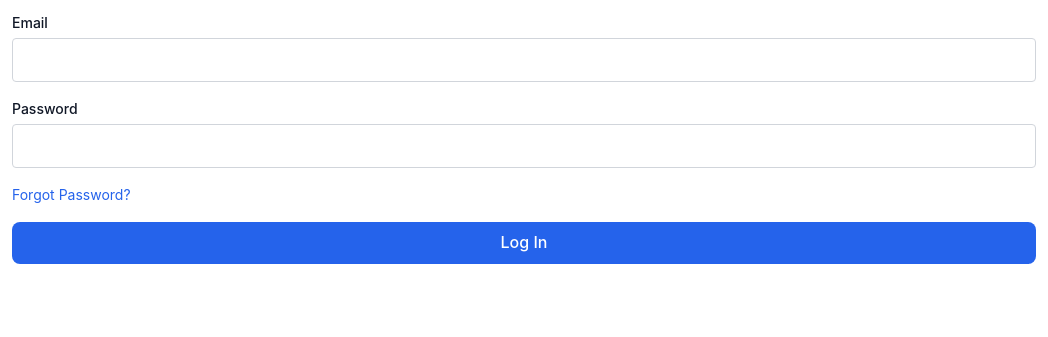
Scenario: <LoginForm /> › when the credentials are rejected with a 401 › should show one generic message for an unknown email
In the field labelled "Email": (524, 60) [12,38,1036,82], type "nobody@example.com"
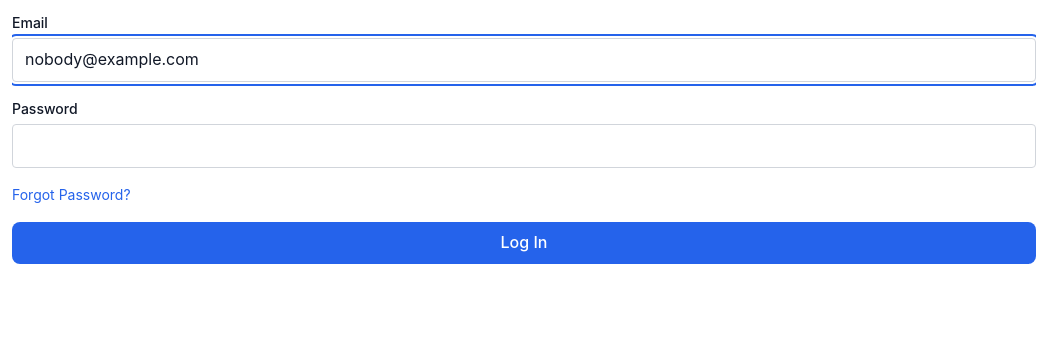
In the password field labelled "Password": (524, 146) [12,124,1036,168], type "CorrectHorse1!"
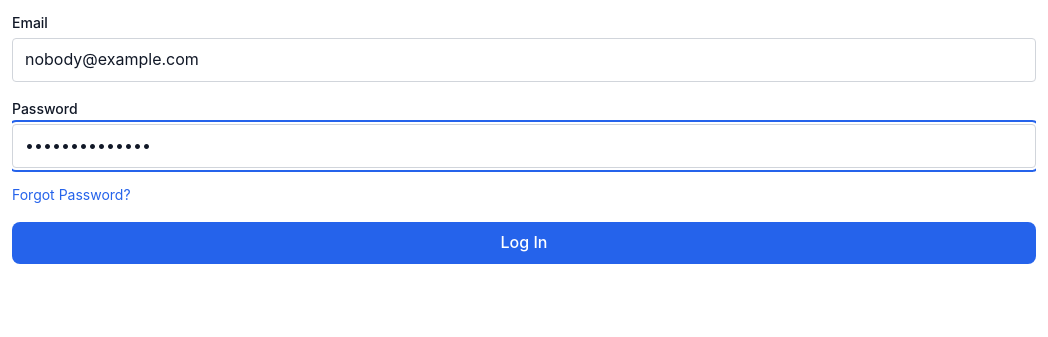
Click the button "Log In": click(524, 243) [12,222,1036,264]
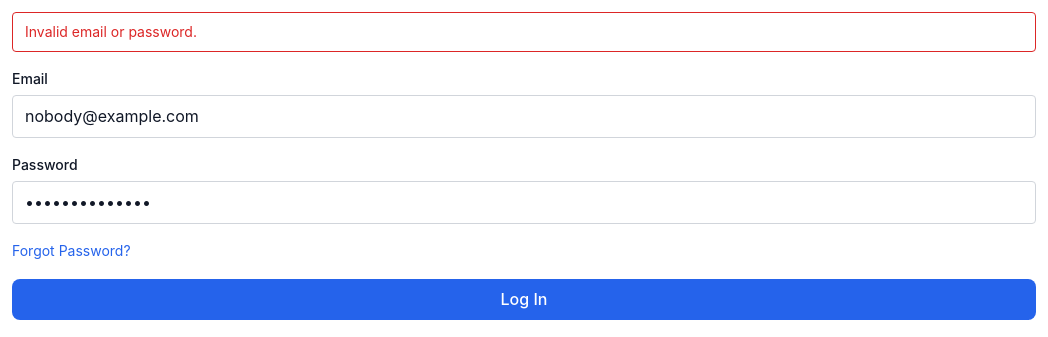
Now the text "Invalid email or password." is shown, box [12,12,1036,52]
